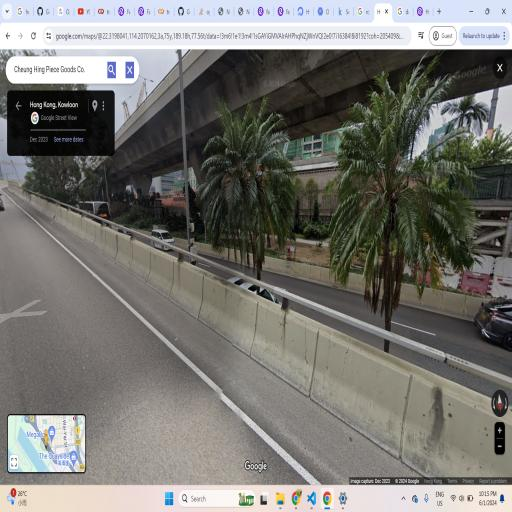Roads: (2, 186, 512, 480)
Trees: (322, 58, 465, 361), (205, 106, 302, 300)
